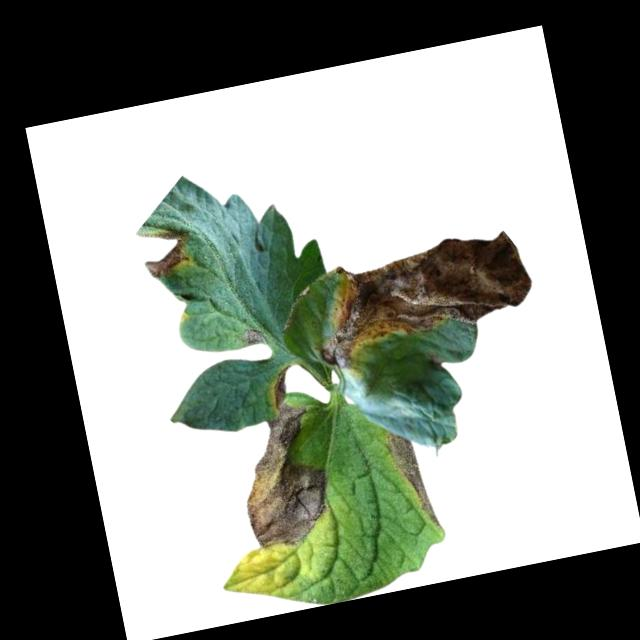Early_blight: (304, 225, 541, 373), (227, 403, 331, 551), (387, 423, 440, 531), (135, 222, 199, 280), (266, 364, 296, 407), (243, 326, 269, 347), (427, 351, 443, 370)
